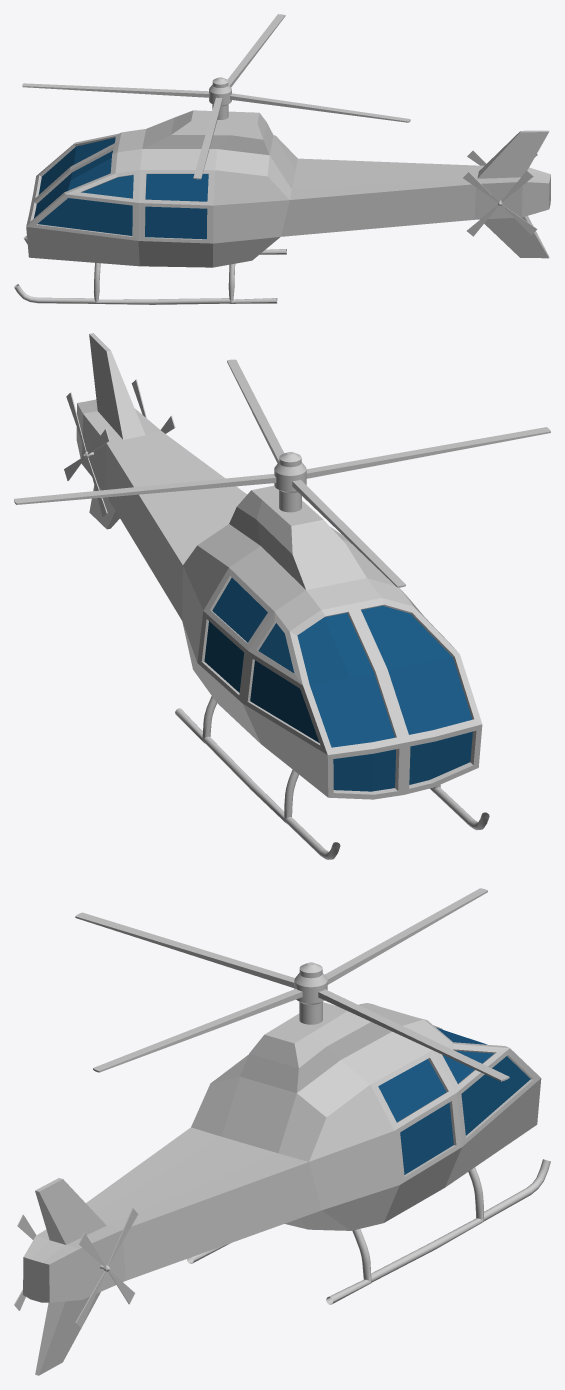
The model's file is helicopter_animation_000146.obj.
The picture shows the model from 3 angles, top to bottom: view 1: azimuth 30°, elevation 25°; view 2: azimuth 150°, elevation 25°; view 3: azimuth 270°, elevation 25°; orthographic projection. The views are drawn at different scales.
Parts seen in each view (by area): view 1: Helicopter.007_Cylinder.008, Helicopter.001_Cylinder.001, Helicopter.003_Cylinder.004; view 2: Helicopter.007_Cylinder.008, Helicopter.001_Cylinder.001, Helicopter.004_Cylinder.005; view 3: Helicopter.007_Cylinder.008, Helicopter.001_Cylinder.001, Helicopter.004_Cylinder.005.
Boxes of the visible parts, <box> form: Helicopter.007_Cylinder.008: <box>14,110,550,304</box>; Helicopter.001_Cylinder.001: <box>22,14,410,179</box>; Helicopter.003_Cylinder.004: <box>463,171,537,236</box>; Helicopter.007_Cylinder.008: <box>76,333,489,859</box>; Helicopter.001_Cylinder.001: <box>14,359,550,587</box>; Helicopter.004_Cylinder.005: <box>64,392,109,517</box>; Helicopter.007_Cylinder.008: <box>23,1002,550,1375</box>; Helicopter.001_Cylinder.001: <box>75,888,509,1081</box>; Helicopter.004_Cylinder.005: <box>75,1208,138,1328</box>.
Size of the model in its own units: 6.72 by 3.2 by 5.18.
